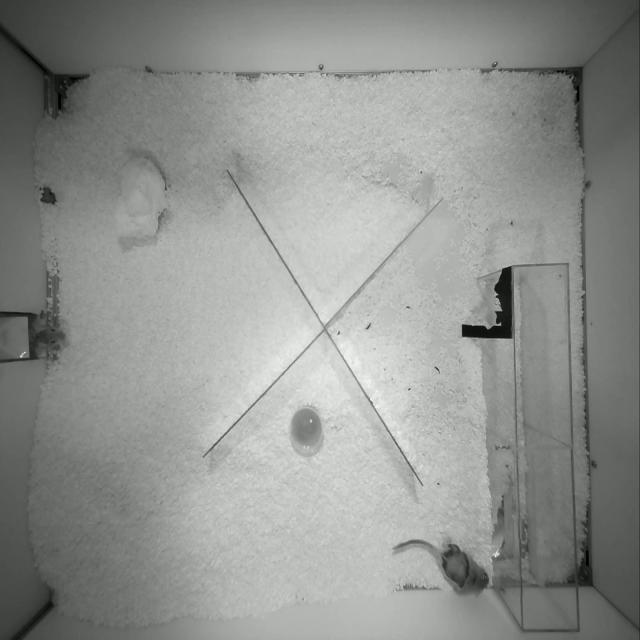adult_back: (392, 539, 489, 593)
